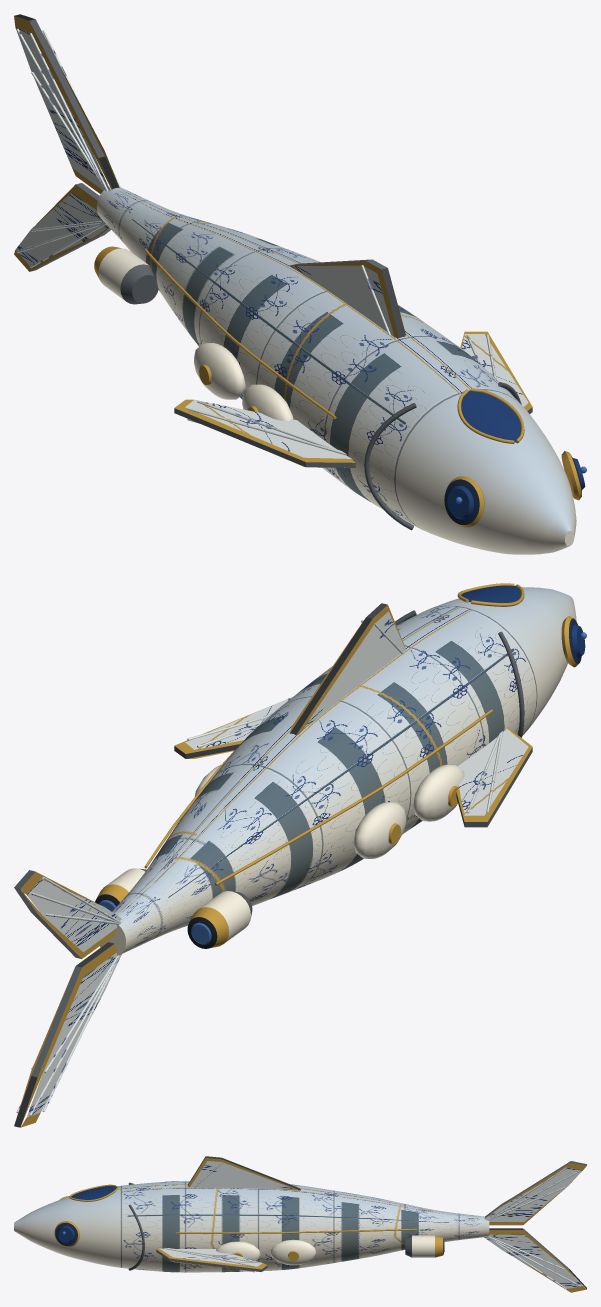
3 views of the same model, one above another, from view 1: azimuth 30°, elevation 25°; view 2: azimuth 150°, elevation 25°; view 3: azimuth 270°, elevation 25° (orthographic). The views are drawn at different scales.
Visible parts, largest first — view 1: pilotfish_hull; view 2: pilotfish_hull; view 3: pilotfish_hull.
Boxes of the visible parts, x1,y1,x2,y2 form: pilotfish_hull: (14,14,586,554); pilotfish_hull: (14,583,586,1127); pilotfish_hull: (14,1156,586,1292).
Size of the model in its own units: 5.24 by 4.16 by 16.
Materials: 1 (1 with a texture image).
